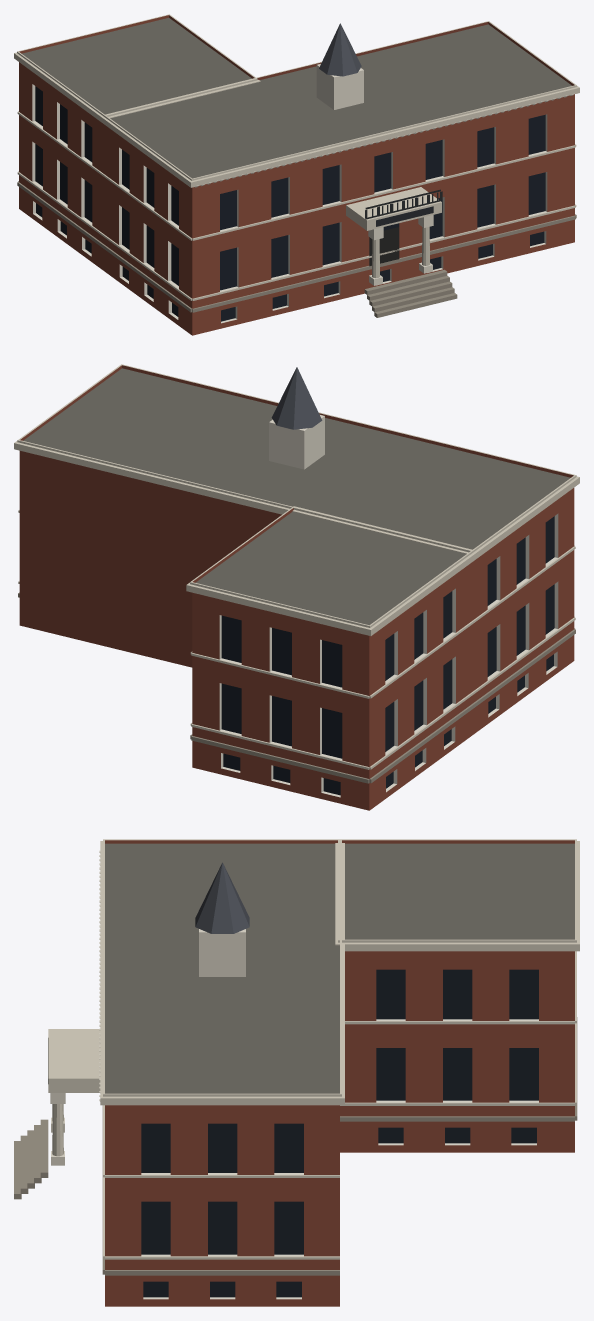
Rendered from philander-smith-college-2.glb.
The picture shows the model from 3 angles, top to bottom: view 1: azimuth 30°, elevation 25°; view 2: azimuth 150°, elevation 25°; view 3: azimuth 270°, elevation 25°; orthographic projection. The views are drawn at different scales.
Parts seen in each view (by area): view 1: philander_brick, philander_roof, philander_glass, philander_stone, philander_base, philander_sash, philander_trim, philander_slate, philander_dark, philander_iron, philander_brick2, philander_sign; view 2: philander_roof, philander_brick, philander_brick2, philander_stone, philander_glass, philander_sash, philander_base, philander_trim, philander_slate; view 3: philander_roof, philander_brick, philander_glass, philander_stone, philander_base, philander_trim, philander_slate, philander_sash.
Part boxes in pixels (left/top/right/bottom): philander_brick: left=19, top=15, right=574, bottom=335; philander_roof: left=22, top=18, right=571, bottom=178; philander_glass: left=35, top=86, right=545, bottom=321; philander_stone: left=14, top=14, right=579, bottom=300; philander_base: left=17, top=181, right=576, bottom=317; philander_sash: left=32, top=84, right=547, bottom=323; philander_trim: left=194, top=64, right=574, bottom=285; philander_slate: left=319, top=23, right=361, bottom=76; philander_dark: left=369, top=227, right=399, bottom=266; philander_iron: left=365, top=189, right=442, bottom=219; philander_brick2: left=257, top=22, right=488, bottom=80; philander_sign: left=376, top=206, right=433, bottom=226; philander_roof: left=23, top=368, right=570, bottom=625; philander_brick: left=20, top=365, right=574, bottom=810; philander_brick2: left=19, top=451, right=281, bottom=667; philander_stone: left=14, top=364, right=579, bottom=769; philander_glass: left=221, top=516, right=554, bottom=795; philander_sash: left=219, top=513, right=558, bottom=797; philander_base: left=18, top=592, right=575, bottom=783; philander_trim: left=269, top=415, right=324, bottom=469; philander_slate: left=271, top=367, right=322, bottom=429; philander_roof: left=105, top=843, right=574, bottom=1093; philander_brick: left=105, top=840, right=574, bottom=1306; philander_glass: left=141, top=969, right=538, bottom=1297; philander_stone: left=48, top=839, right=579, bottom=1259; philander_base: left=14, top=1017, right=577, bottom=1275; philander_trim: left=50, top=850, right=245, bottom=1165; philander_slate: left=195, top=862, right=249, bottom=933; philander_sash: left=141, top=1019, right=538, bottom=1299.
Bounding box in the file's own units: 31.1 × 17.9 × 28.9.
